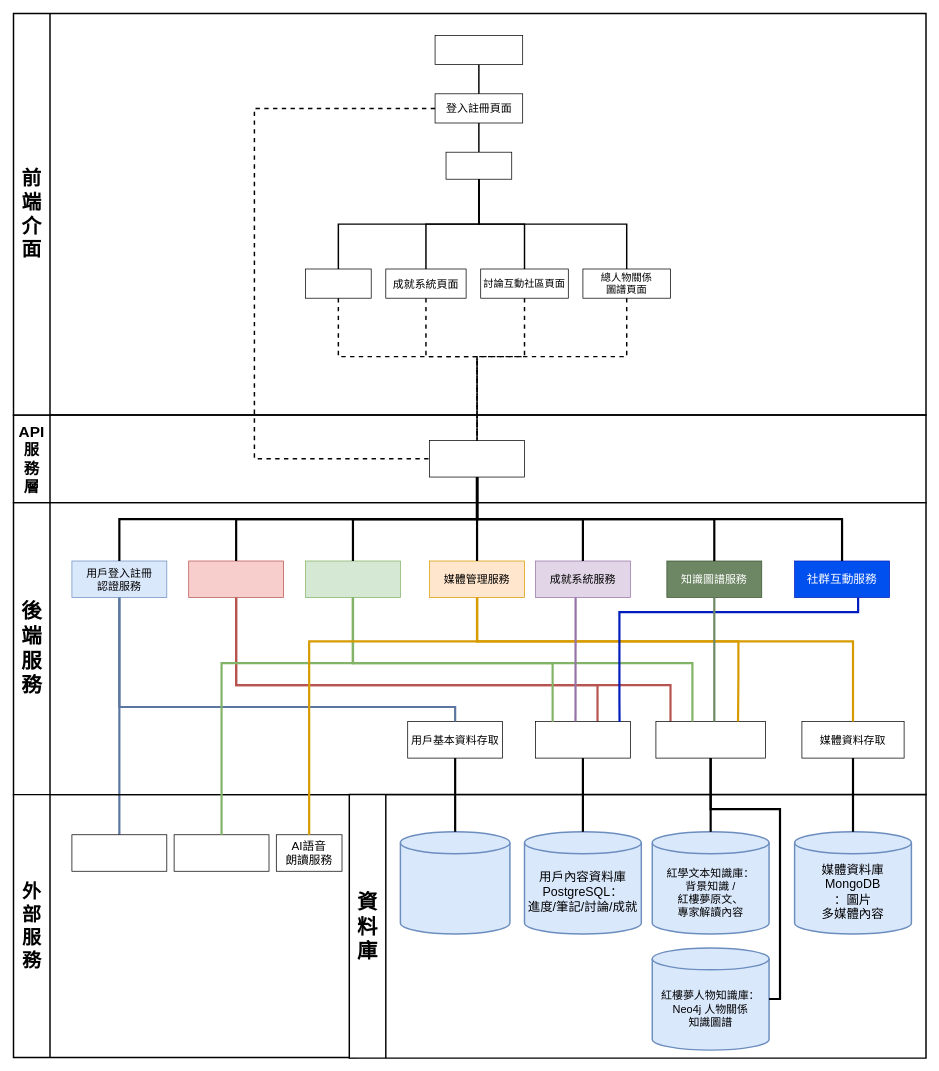
Image size: 939x1071. Some labels were removed from this diagram. The centre of each missing label's shape, as x and y in pixels:
AI閱讀問答服務: the point at 352,579
API 閘道器 (API GateWay): the point at 477,458
LLM 引擎 Perplexity API: the point at 221,852
原文與專家解讀 內容閱讀服務: the point at 236,579
用戶內容資料存取: the point at 582,739
用戶基本資料庫 PostgreSQL： 用戶資料/權限/設定: the point at 454,882
知識資料存取: the point at 710,739
第三方登入: the point at 119,852
訪客介紹頁面: the point at 478,50
閱讀頁面: the point at 338,283
首頁: the point at 478,165
